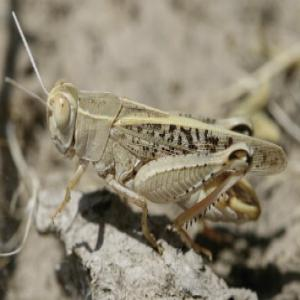locust: (27, 49, 278, 217)
